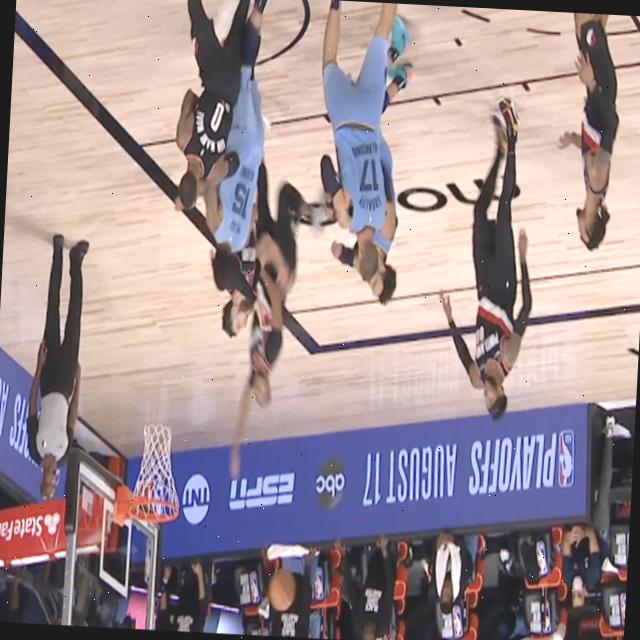no foul: (153, 0, 303, 429), (300, 0, 419, 329), (241, 138, 319, 496), (300, 0, 398, 275), (158, 0, 257, 197)
